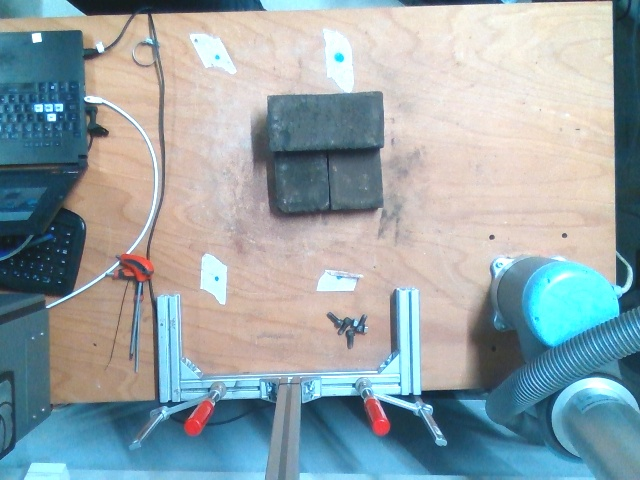brick: (269, 91, 382, 152)
